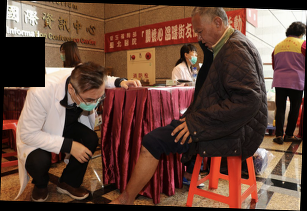with_mask: (74, 89, 105, 112), (188, 50, 198, 65), (59, 50, 68, 63)
without_mask: (192, 26, 219, 50)
